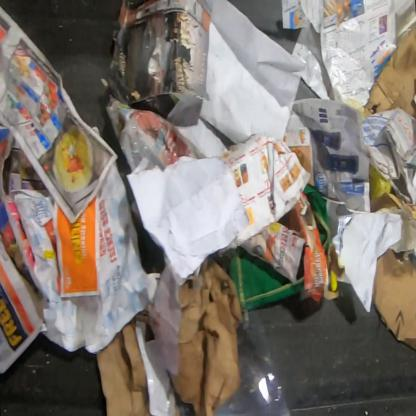cardboard: (163, 268, 242, 415), (97, 318, 150, 415), (364, 23, 415, 119), (371, 249, 416, 351), (173, 403, 182, 415)
rigid_plastic: (214, 307, 291, 416)
soft_plastic: (118, 117, 172, 174), (73, 296, 108, 348), (370, 163, 392, 201), (342, 98, 365, 121)
